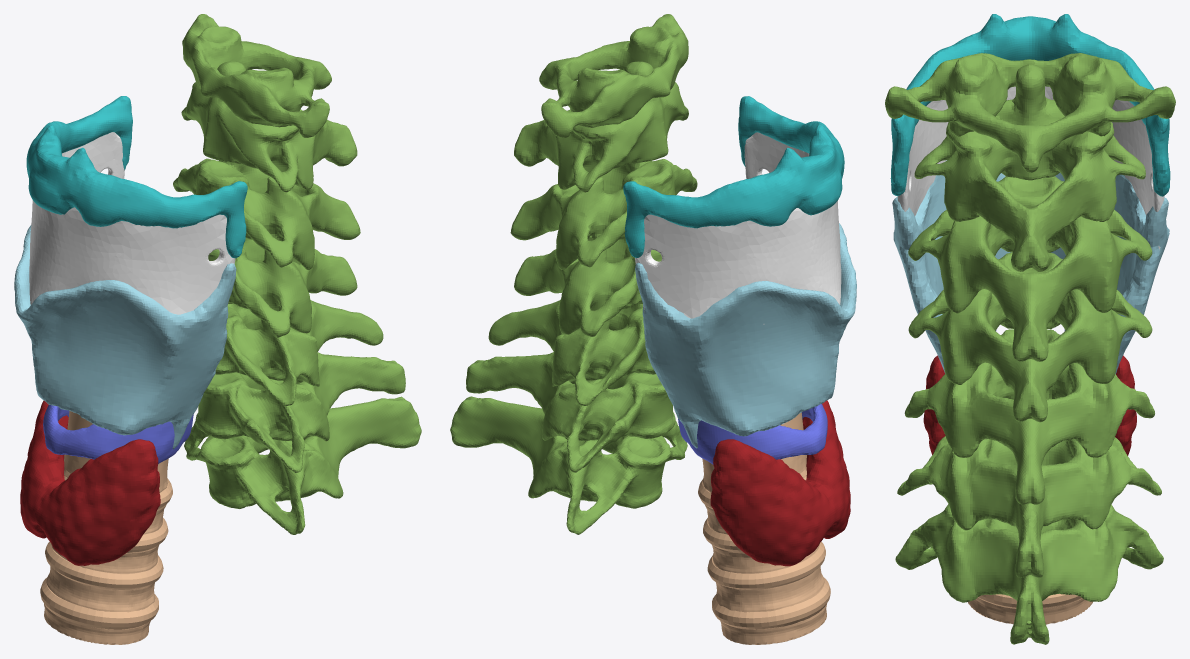
3 renders of one model, left to right at view 1: azimuth 30°, elevation 25°; view 2: azimuth 150°, elevation 25°; view 3: azimuth 270°, elevation 25°, orthographic. The views are drawn at different scales.
Parts seen in each view (by area): view 1: object 9, laringe.002_12, Sphere_11, Torus.017_9, object 7, laringe_7, object 6, object 1, object 3, object 2, object 5, object 4 (+1 smaller); view 2: object 9, laringe.002_12, Sphere_11, Torus.017_9, object 7, laringe_7, object 6, object 1, object 3, object 2, object 5, object 4 (+1 smaller); view 3: object 2, object 3, object 7, object 1, object 6, object 5, object 4, Torus.017_9, object 9, laringe.002_12, laringe_7, Sphere_11.
Part boxes in pixels (<box>): object 9: <box>14,225,236,449</box>; laringe.002_12: <box>29,132,235,314</box>; Sphere_11: <box>20,400,160,565</box>; Torus.017_9: <box>26,96,247,258</box>; object 7: <box>184,396,421,534</box>; laringe_7: <box>40,411,172,644</box>; object 6: <box>195,352,405,472</box>; object 1: <box>182,14,331,137</box>; object 3: <box>173,158,360,269</box>; object 2: <box>181,61,357,192</box>; object 5: <box>215,300,383,405</box>; object 4: <box>208,238,357,337</box>; object 9: <box>635,223,856,448</box>; laringe.002_12: <box>635,132,841,324</box>; Sphere_11: <box>710,400,850,566</box>; Torus.017_9: <box>623,96,844,257</box>; object 7: <box>450,396,687,534</box>; laringe_7: <box>698,412,830,644</box>; object 6: <box>466,352,675,472</box>; object 1: <box>539,14,688,137</box>; object 3: <box>510,159,697,269</box>; object 2: <box>514,61,688,192</box>; object 5: <box>488,299,655,405</box>; object 4: <box>514,238,661,336</box>; object 2: <box>914,64,1145,271</box>; object 3: <box>908,176,1152,361</box>; object 7: <box>895,504,1163,644</box>; object 1: <box>885,53,1175,172</box>; object 6: <box>897,436,1161,577</box>; object 5: <box>904,329,1154,504</box>; object 4: <box>908,252,1152,422</box>; Torus.017_9: <box>890,14,1170,196</box>; object 9: <box>892,160,1169,373</box>; laringe.002_12: <box>897,86,1164,249</box>; laringe_7: <box>968,593,1092,624</box>; Sphere_11: <box>923,355,1136,455</box>.
Bounding box in the file's own units: 8.88 × 11.71 × 4.97.
